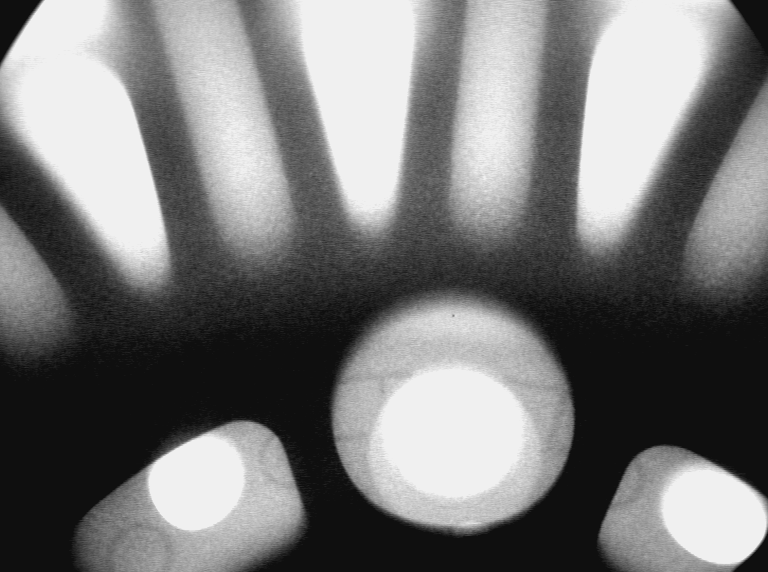defect: (454, 518, 489, 539)
